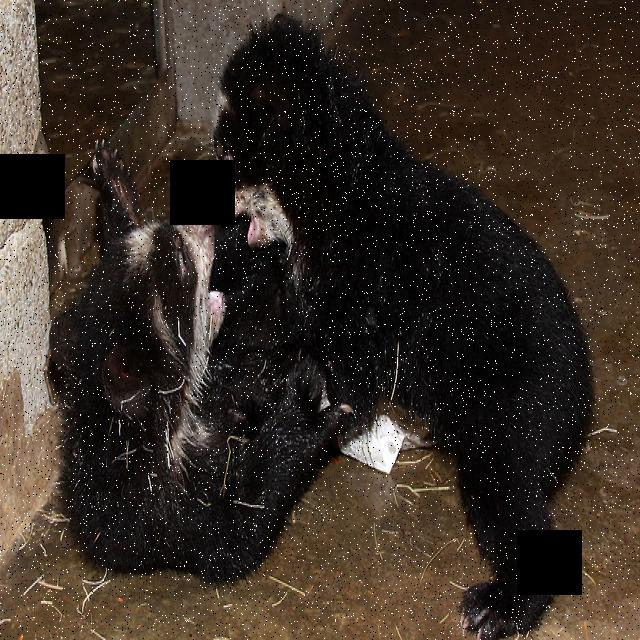Bear: (207, 20, 602, 635), (44, 168, 330, 580)
